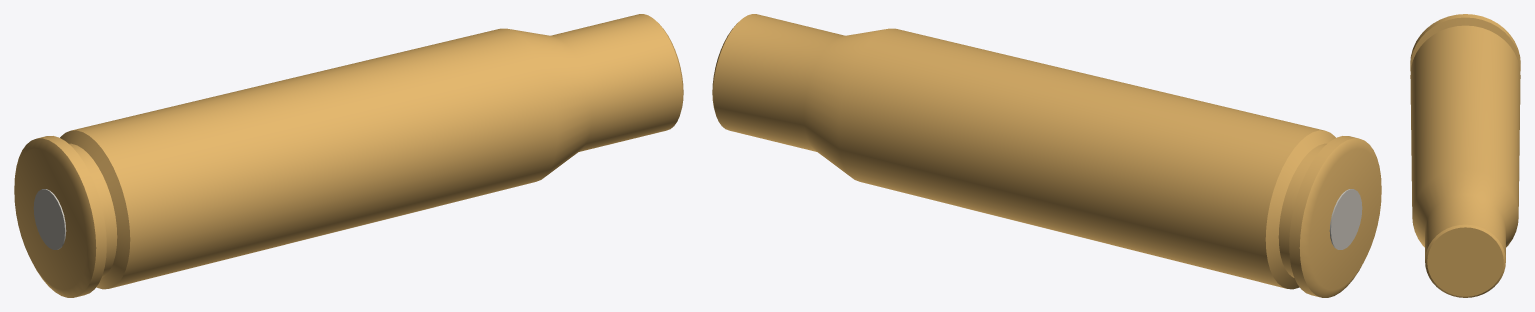
File: estojo.obj
3 renders of one model, left to right at view 1: azimuth 30°, elevation 25°; view 2: azimuth 150°, elevation 25°; view 3: azimuth 270°, elevation 25°, orthographic. The views are drawn at different scales.
Bounding box in the file's own units: 0.2052 × 0.048 × 0.048.
